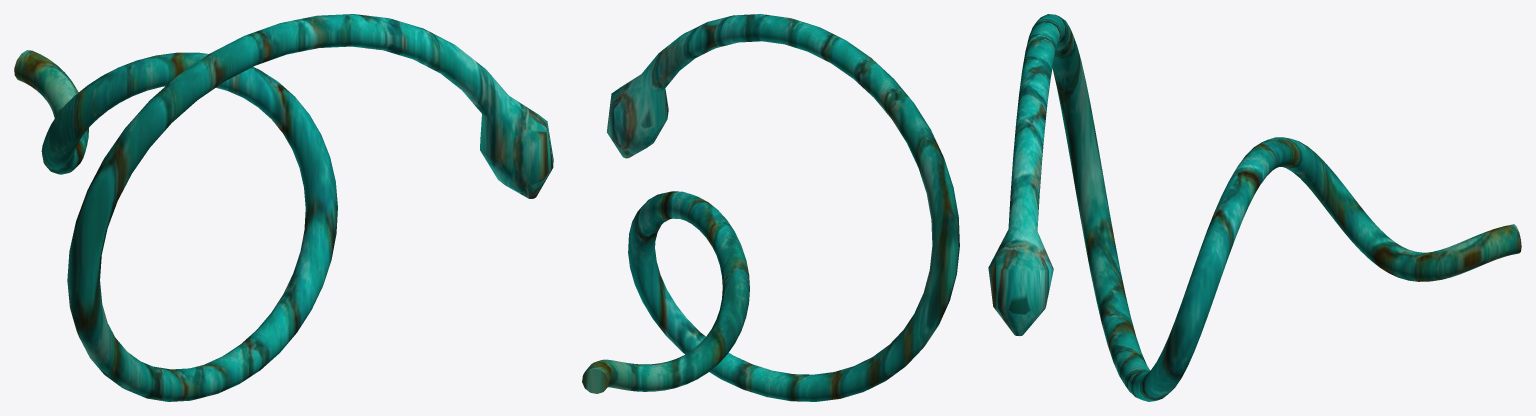
Rendered from seraphinsWhip.FBX.
The picture shows the model from 3 angles, left to right: view 1: azimuth 30°, elevation 25°; view 2: azimuth 150°, elevation 25°; view 3: azimuth 270°, elevation 25°; orthographic projection. The views are drawn at different scales.
Parts seen in each view (by area): view 1: Helix001; view 2: Helix001; view 3: Helix001.
Part boxes in pixels (<box>): Helix001: <box>14,14,553,401</box>; Helix001: <box>582,14,959,401</box>; Helix001: <box>988,14,1521,401</box>.
Size of the model in its own units: 4.73 by 4.06 by 5.35.
Materials: 1 (1 with a texture image).
